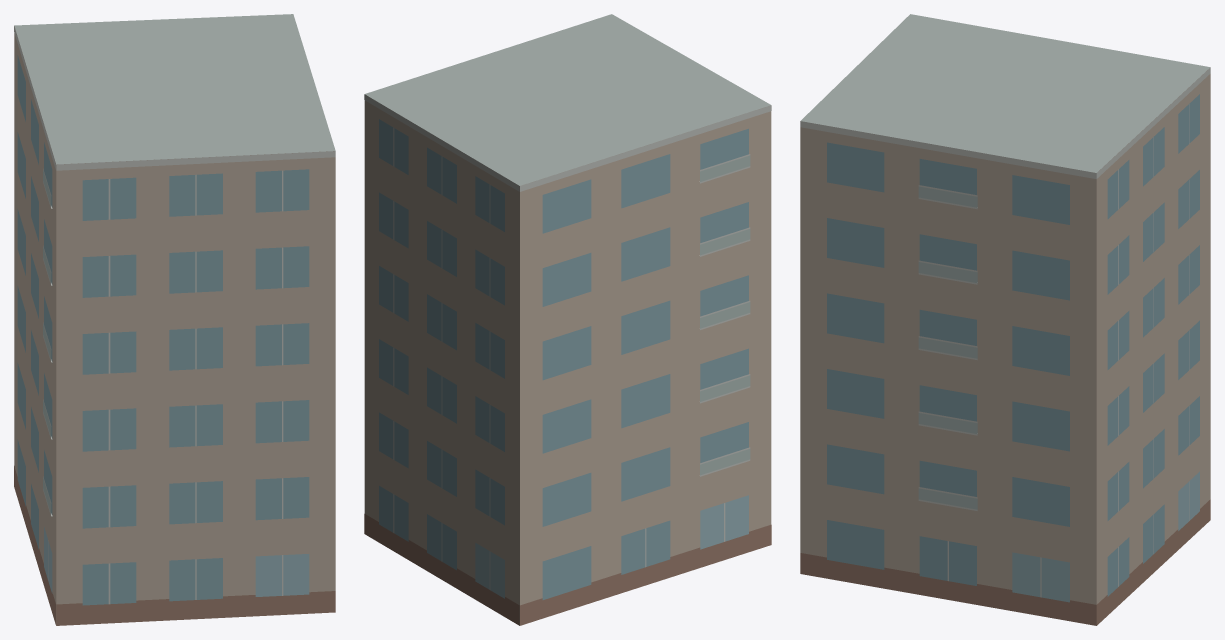
File: survey-upis-32967350.glb
3 views of the same model, side by side, from view 1: azimuth 30°, elevation 25°; view 2: azimuth 150°, elevation 25°; view 3: azimuth 270°, elevation 25° (orthographic). The views are drawn at different scales.
Visible parts, largest first — view 1: survey-upis-32967350.tmp; view 2: survey-upis-32967350.tmp; view 3: survey-upis-32967350.tmp.
Boxes of the visible parts, x1,y1,x2,y2 form: survey-upis-32967350.tmp: [14, 14, 335, 625]; survey-upis-32967350.tmp: [364, 14, 771, 625]; survey-upis-32967350.tmp: [800, 14, 1210, 625].
Bounding box in the file's own units: 13.49 × 17.9 × 14.71.
